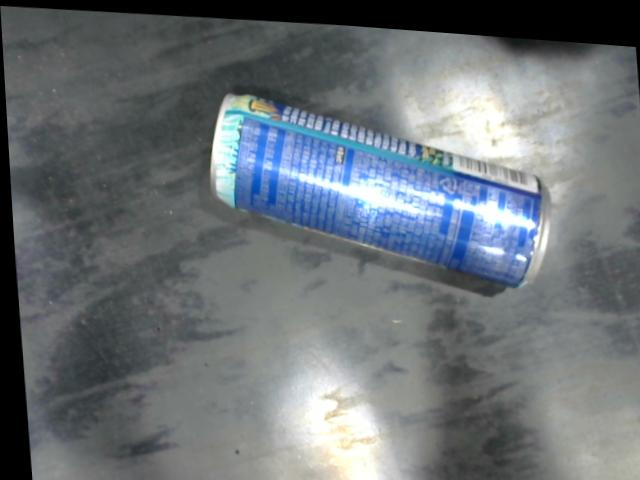can: (203, 87, 554, 283)
